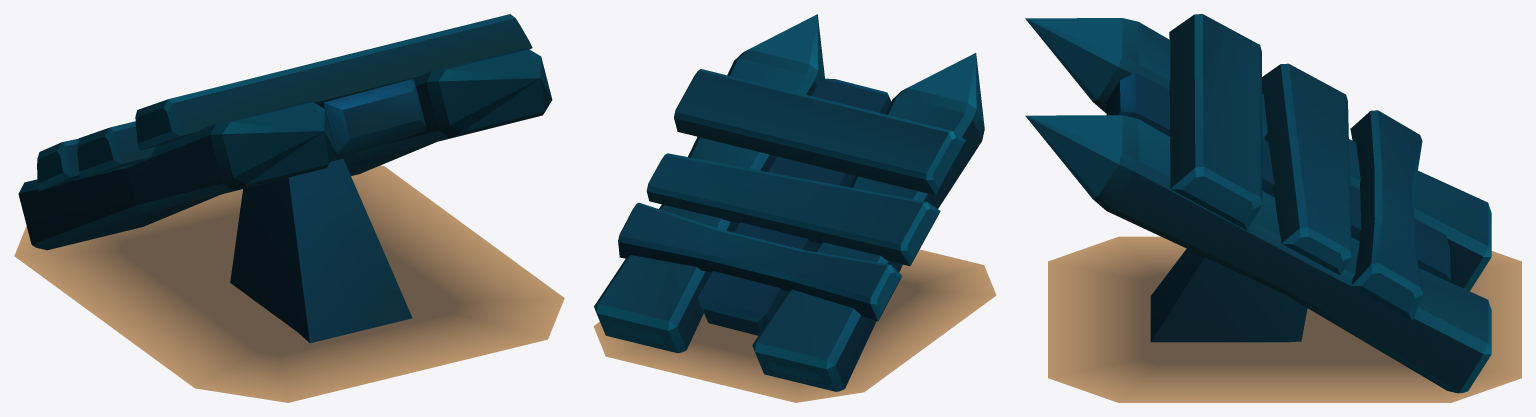
File: Barricade_2.fbx
3 views of the same model, side by side, from view 1: azimuth 30°, elevation 25°; view 2: azimuth 150°, elevation 25°; view 3: azimuth 270°, elevation 25° (orthographic). The views are drawn at different scales.
Parts seen in each view (by area): view 1: Barricade_2; view 2: Barricade_2; view 3: Barricade_2.
Part boxes in pixels (x1,y1,x2,y2): Barricade_2: [14, 14, 564, 402]; Barricade_2: [593, 14, 996, 402]; Barricade_2: [1025, 14, 1521, 402].
Size of the model in its own units: 1631 by 1269 by 2054.
